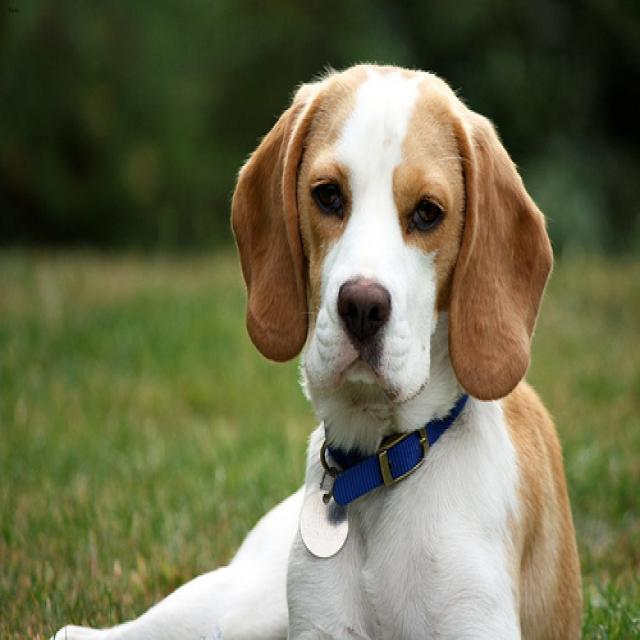dog-beagle: (44, 52, 590, 636)
